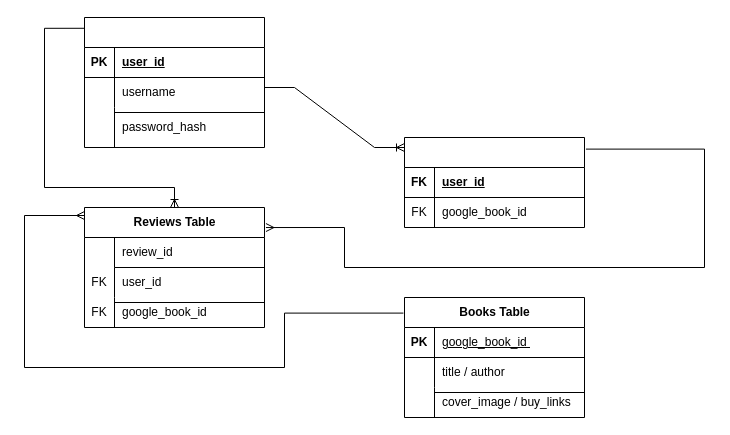
The diagram is 730 pixels wide and 435 high, and some of its shapes have lost their labels. The box of each missing label's shape, as (x1, y1, x2, y2) in pixels:
User Library Table: (404, 136, 584, 228)
Users Table: (84, 16, 264, 148)
